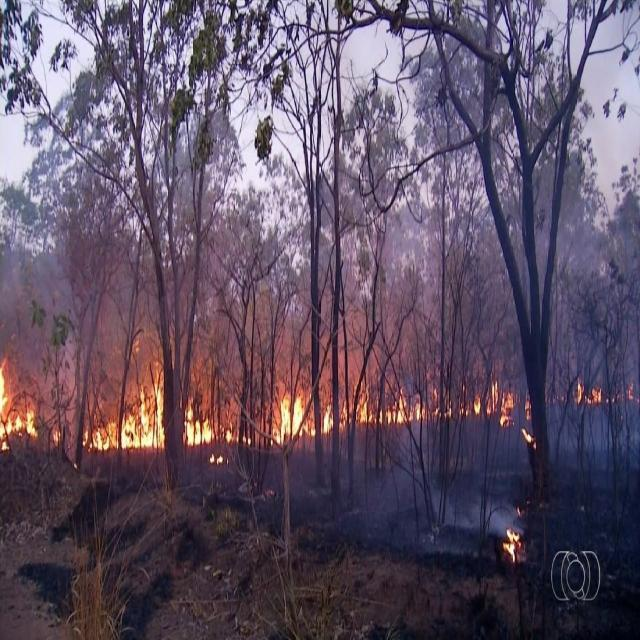Fire: (280, 360, 519, 430), (89, 352, 234, 452), (3, 378, 40, 469), (564, 376, 604, 407), (498, 520, 525, 564)
